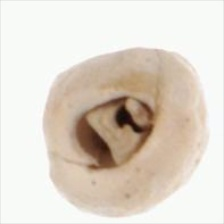L3: (74, 95, 156, 169)
L4: (43, 47, 209, 217)
